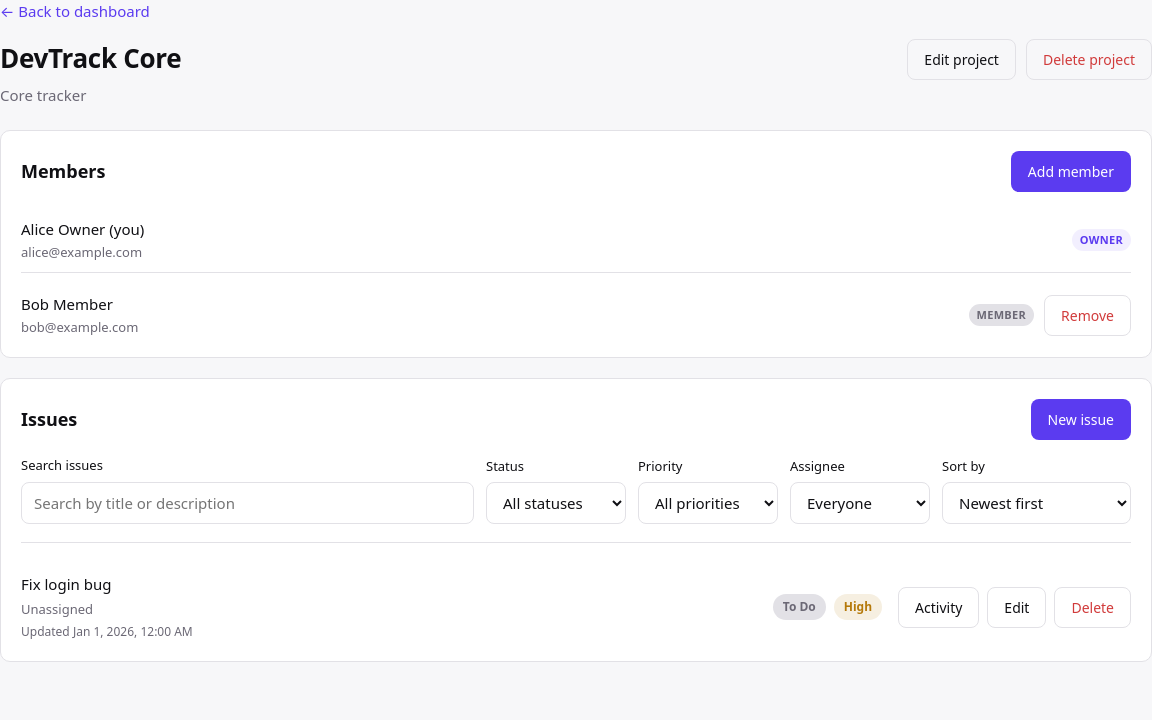
Test: ProjectDetailPage › deletes an issue after confirming
The image size is (1152, 720).
Expected: the text "Fix login bug" is shown, [21,574,111,594]
Click the button "Delete" at x=1093, y=607, box [1054,586,1131,628]
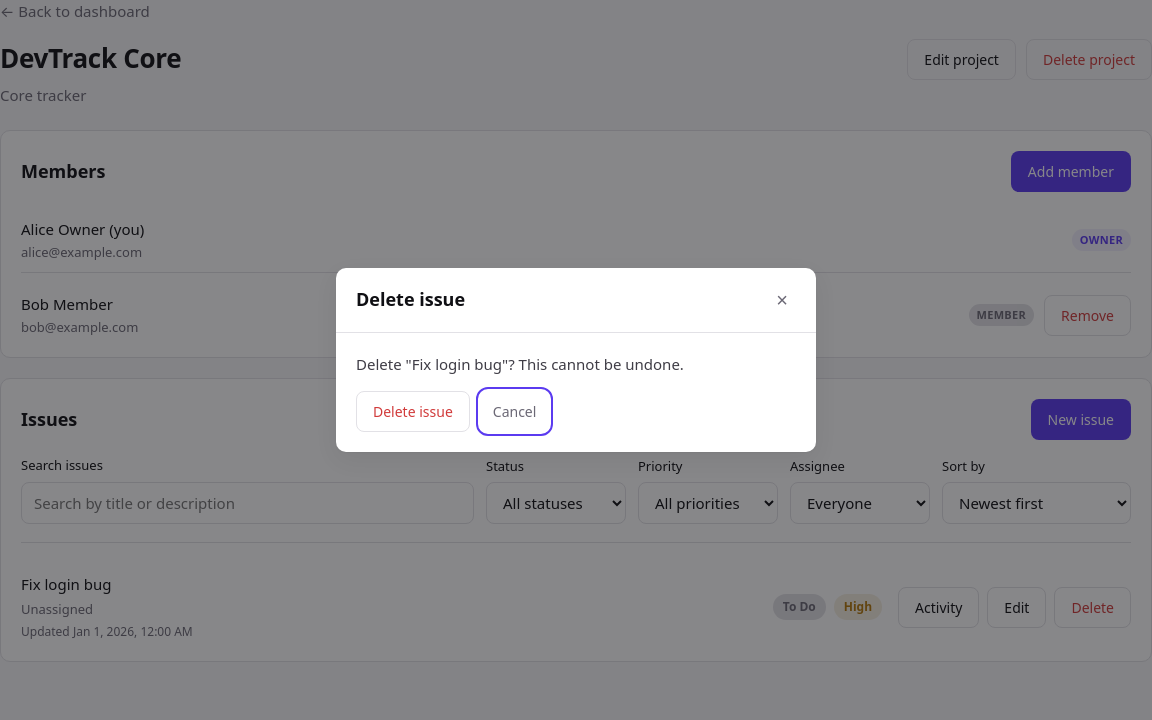
Click the button "Delete issue" at x=413, y=412, box [356,391,470,432]
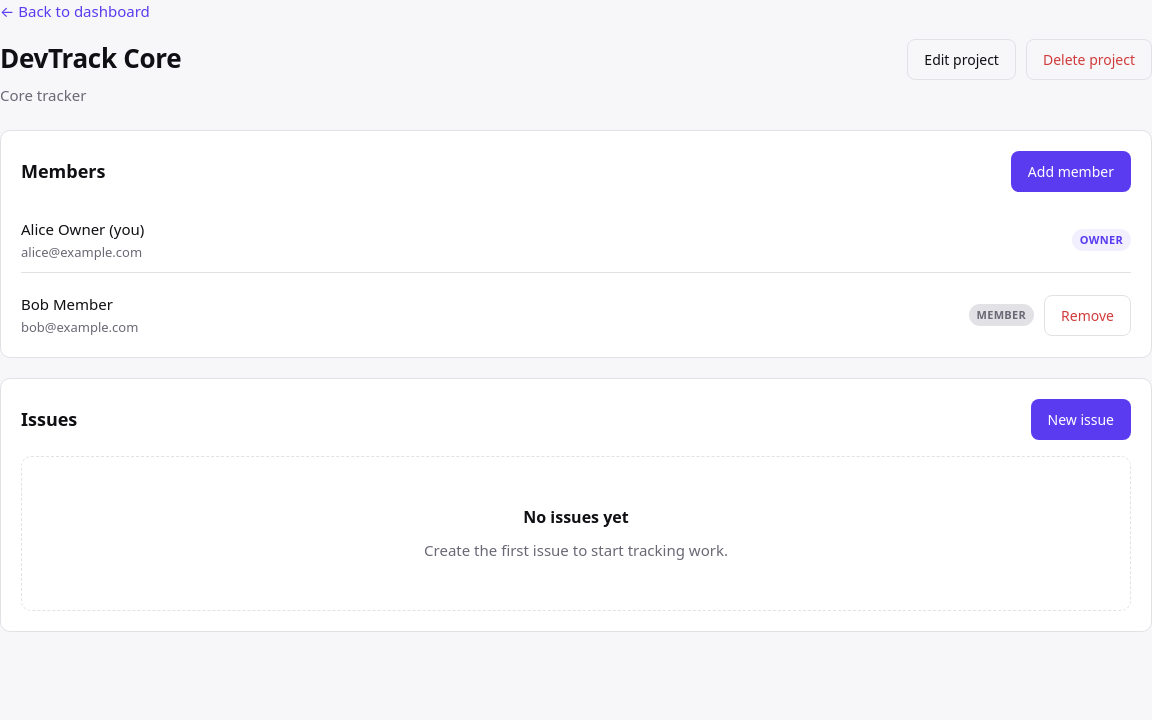
Expected: the text "Fix login bug" is gone
